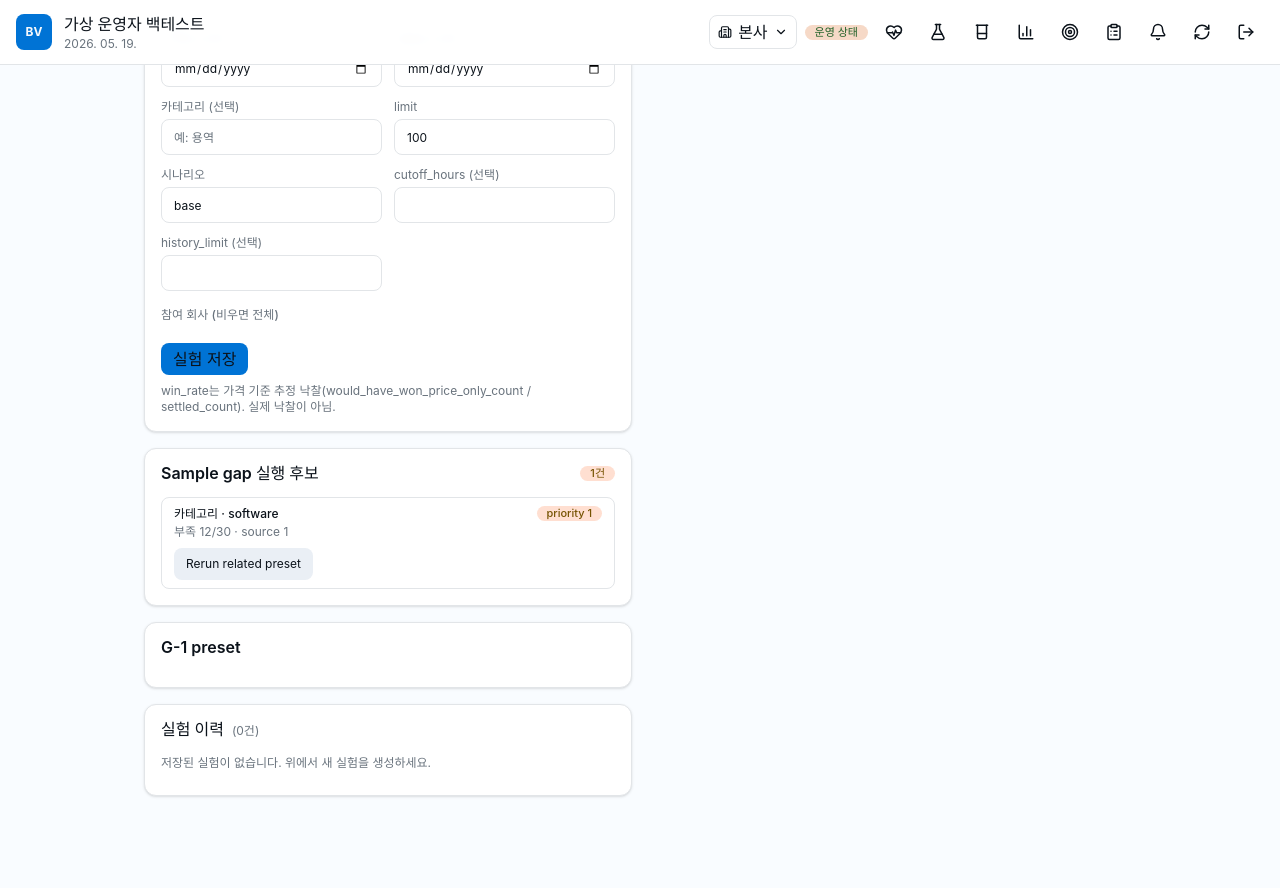
Scenario: SyntheticBacktestScreen › sample-gap 후보를 기존 실험 선택으로 연결한다
(page scrolled)
expect the element named "sample-gap 실행 후보" is shown: met, box [144,448,632,606]
Click the button "Rerun related preset". click: [244, 564]
box: [174,548,313,580]
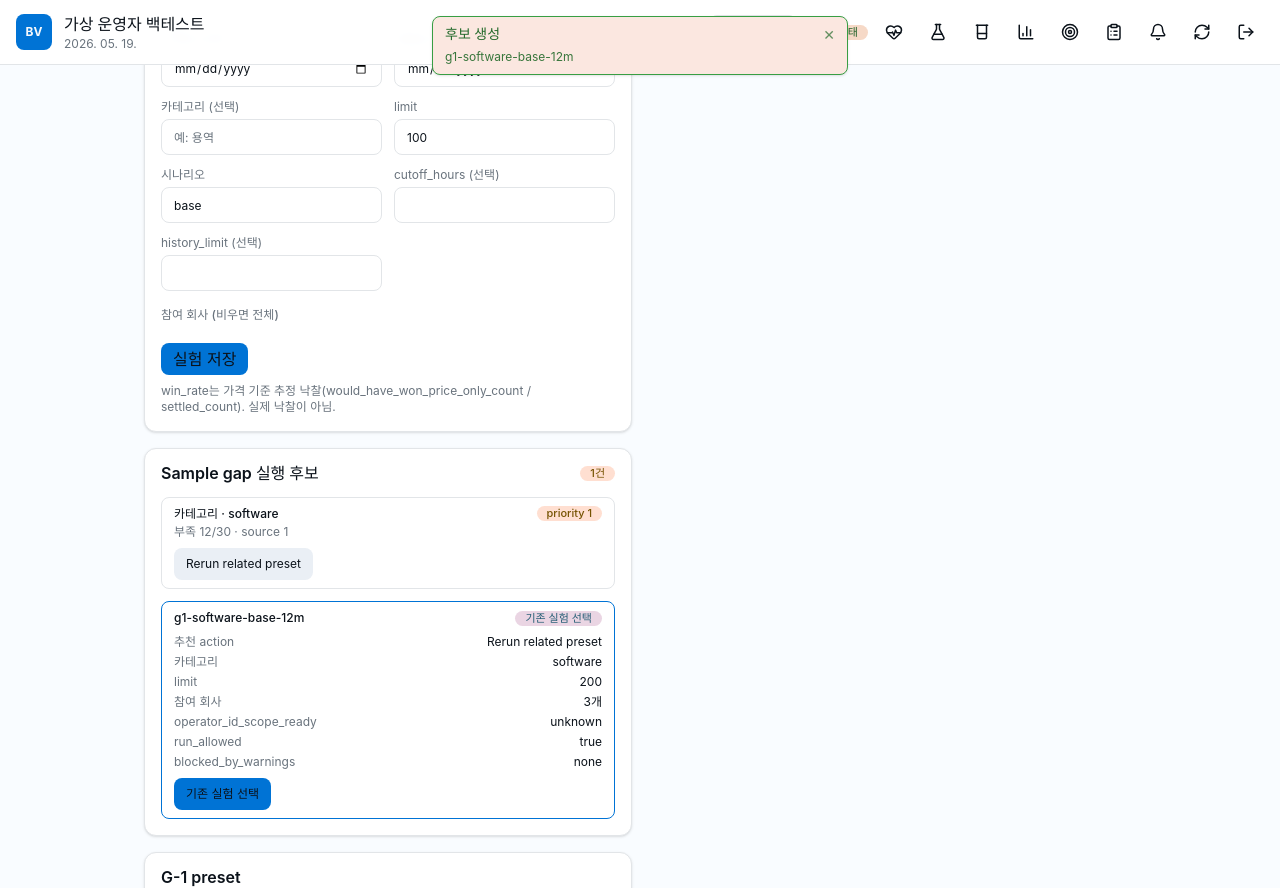
expect the element named "선택된 sample-gap 후보" is shown: met, box [161,601,615,819]
Click the button "기존 실험 선택". click: [222, 794]
box: [174,778,271,810]
(page scrolled)
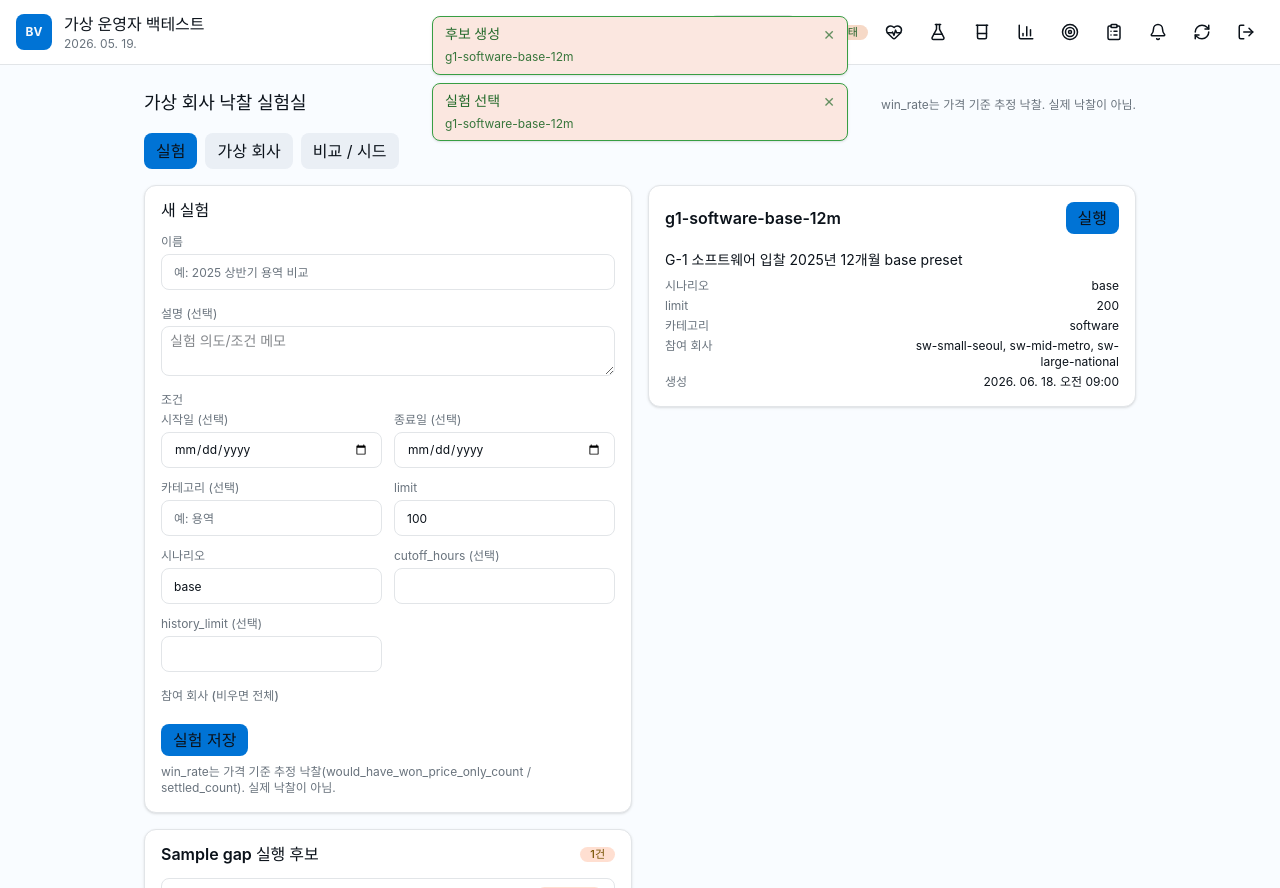
expect the heading "g1-software-base-12m" is shown: met, box [665,210,841,226]
